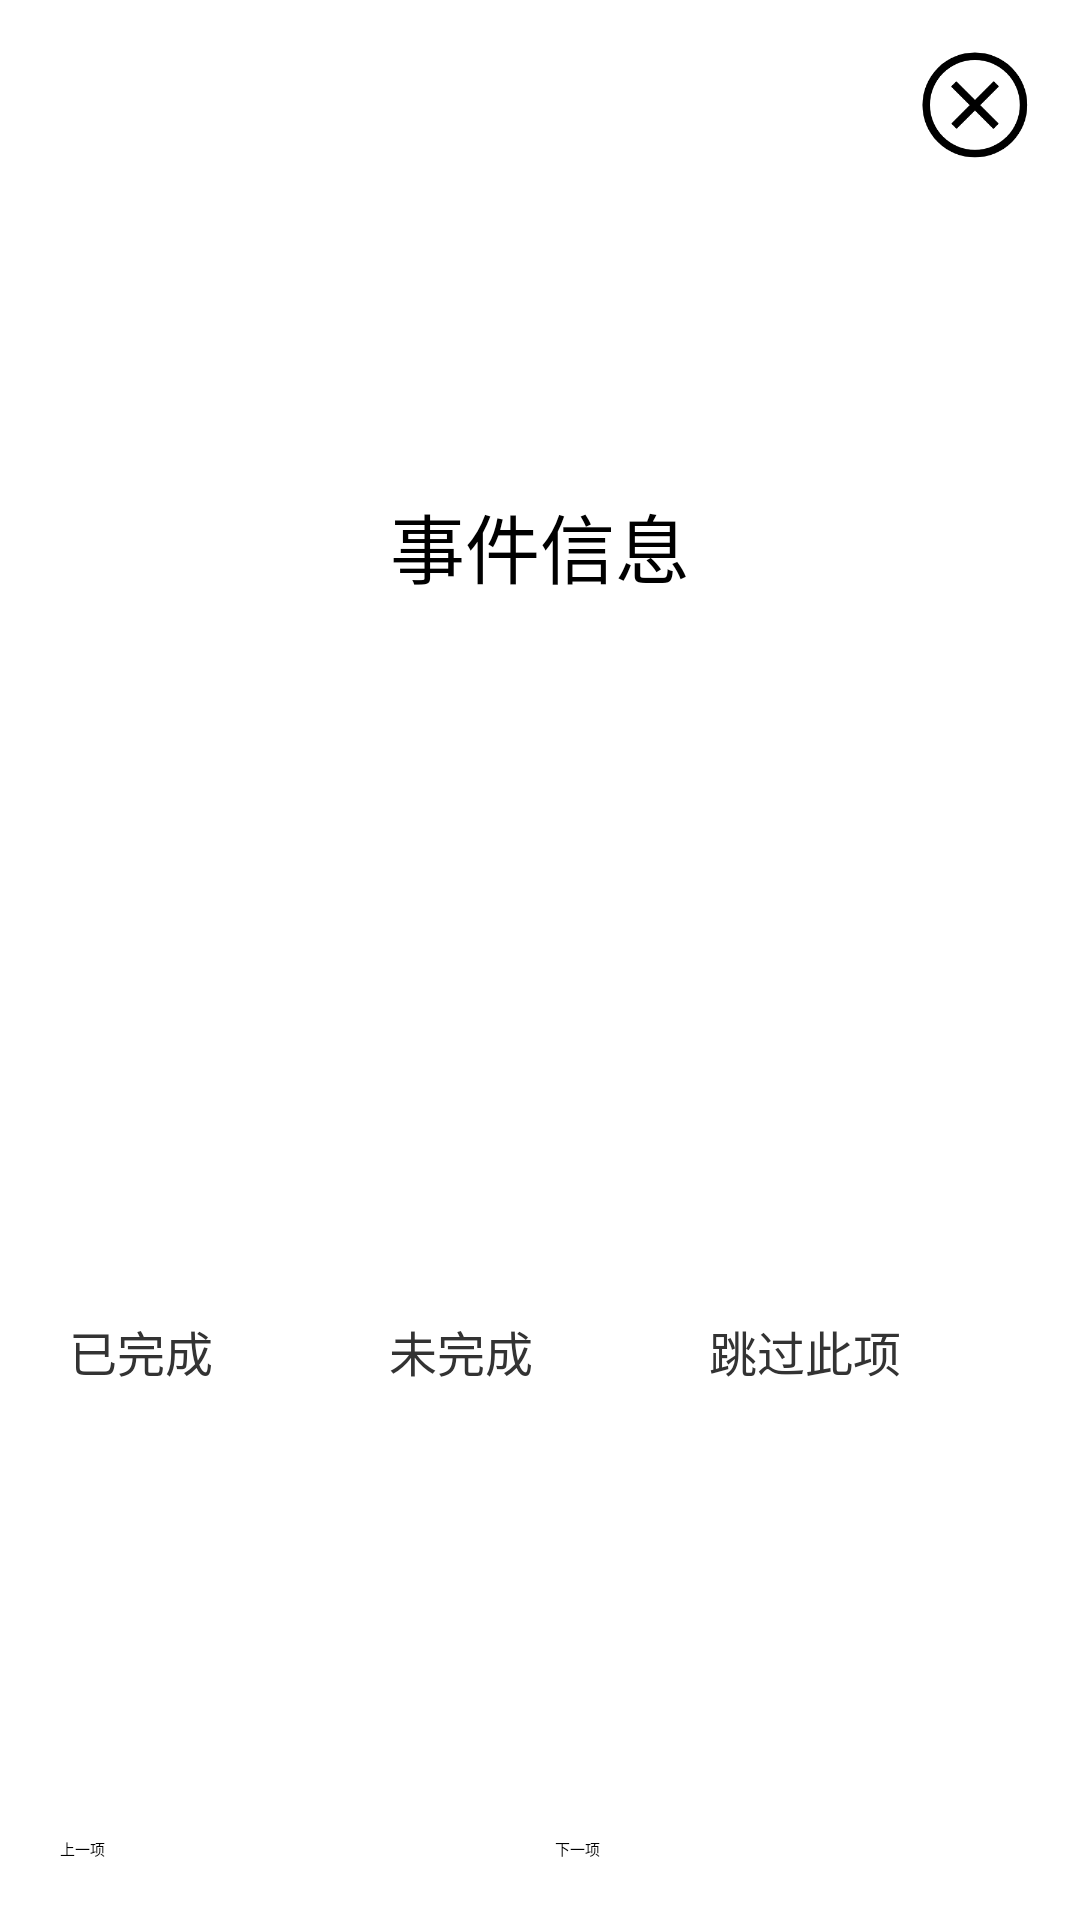

Where icons sit on this 1080px x 1920px app screen, as (x1, y1, x2, y2):
delete: (922, 52, 1027, 158)
